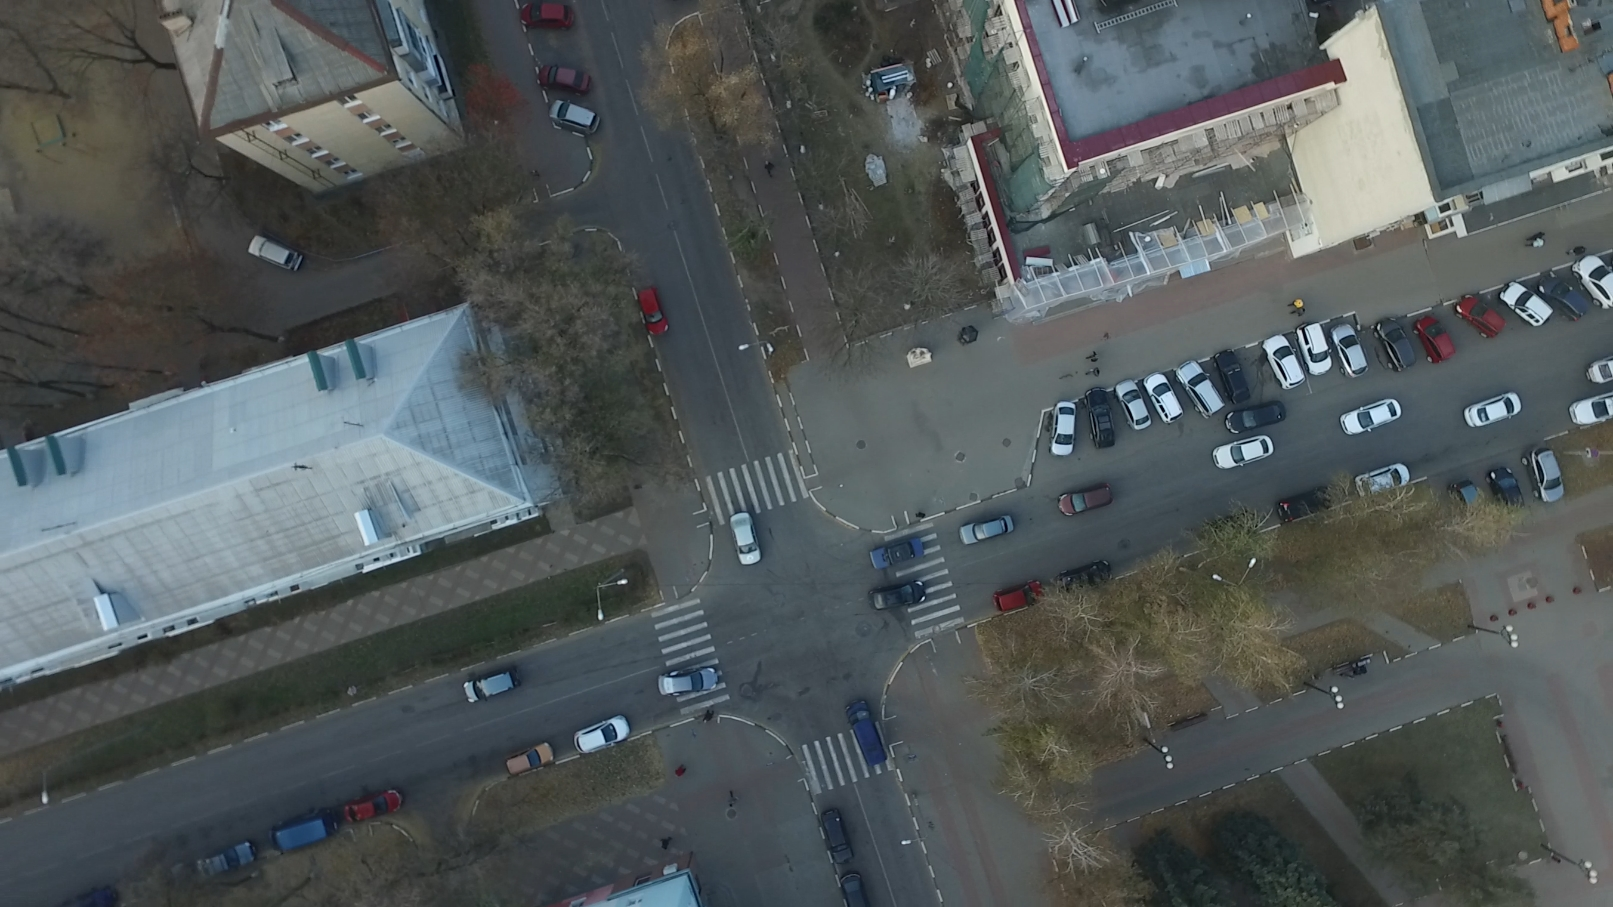car: (191, 836, 253, 885), (841, 700, 886, 764), (1177, 359, 1224, 420), (1275, 483, 1342, 525), (1500, 276, 1552, 329), (1535, 268, 1583, 323), (1373, 317, 1415, 378), (1455, 291, 1506, 341), (1195, 507, 1256, 548), (462, 664, 521, 707), (1352, 461, 1407, 505), (248, 229, 304, 274), (1339, 399, 1401, 437), (1212, 432, 1272, 472), (343, 789, 400, 831), (1520, 447, 1562, 504), (573, 712, 630, 753), (37, 862, 103, 896), (547, 93, 598, 137), (1463, 386, 1520, 426), (956, 511, 1014, 549), (1262, 334, 1302, 390), (503, 739, 554, 782), (1328, 322, 1367, 378), (1412, 316, 1453, 368), (270, 816, 336, 848), (1058, 481, 1113, 518), (1293, 321, 1331, 377), (1578, 254, 1613, 312), (1484, 466, 1524, 518), (653, 663, 717, 695), (1143, 372, 1181, 426), (1226, 402, 1287, 435), (1054, 560, 1111, 595), (1047, 401, 1082, 456), (1114, 378, 1151, 431), (726, 511, 761, 565), (867, 580, 927, 612), (1215, 348, 1250, 403), (867, 536, 922, 570), (1085, 385, 1114, 447), (995, 577, 1047, 612), (542, 62, 594, 97), (821, 807, 852, 866), (636, 288, 674, 336), (116, 869, 175, 899), (1449, 481, 1484, 528), (1570, 396, 1613, 429), (518, 1, 572, 27), (1582, 354, 1613, 385), (840, 870, 863, 907)
